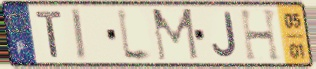H: (237, 8, 284, 63)
I: (68, 7, 89, 63)
J: (211, 11, 239, 60)
L: (115, 5, 156, 65)
M: (150, 7, 201, 63)
T: (34, 10, 65, 60)
